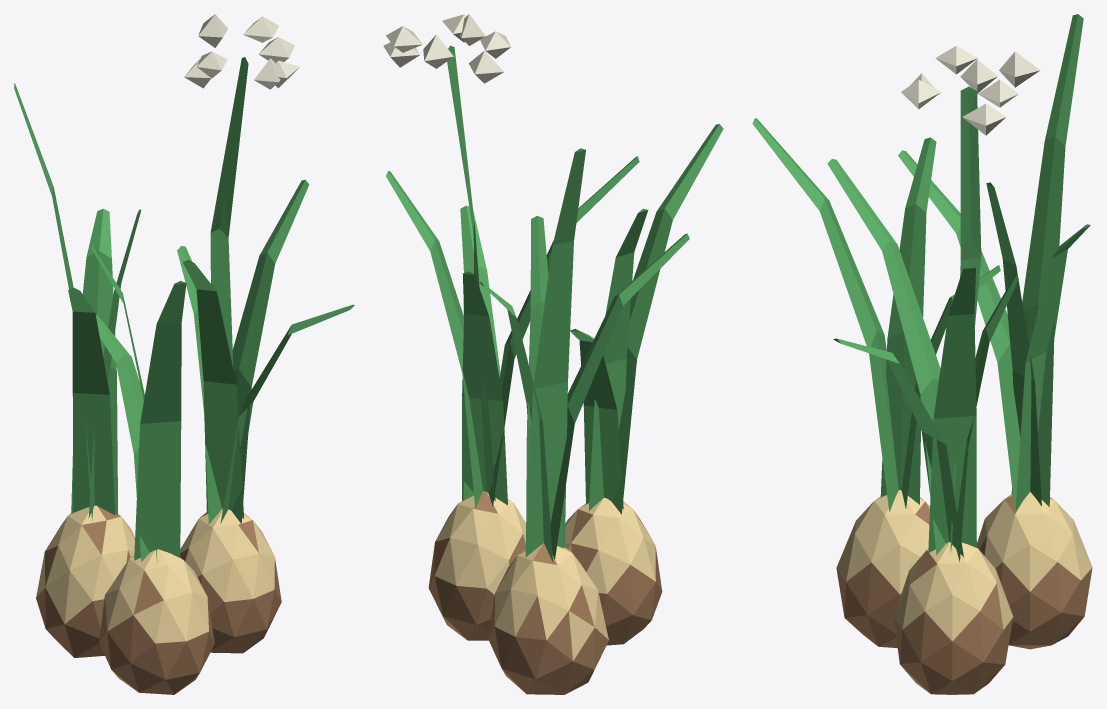
Rendered from wild_onion.glb.
The picture shows the model from 3 angles, left to right: view 1: azimuth 30°, elevation 25°; view 2: azimuth 150°, elevation 25°; view 3: azimuth 270°, elevation 25°; orthographic projection. The views are drawn at different scales.
Parts seen in each view (by area): view 1: wild_onion.001; view 2: wild_onion.001; view 3: wild_onion.001.
Boxes of the visible parts, bbox=[...] form: wild_onion.001: bbox=[14, 14, 354, 694]; wild_onion.001: bbox=[383, 14, 723, 694]; wild_onion.001: bbox=[752, 14, 1092, 694].
Bounding box in the file's own units: 0.2096 × 0.46 × 0.2157.
